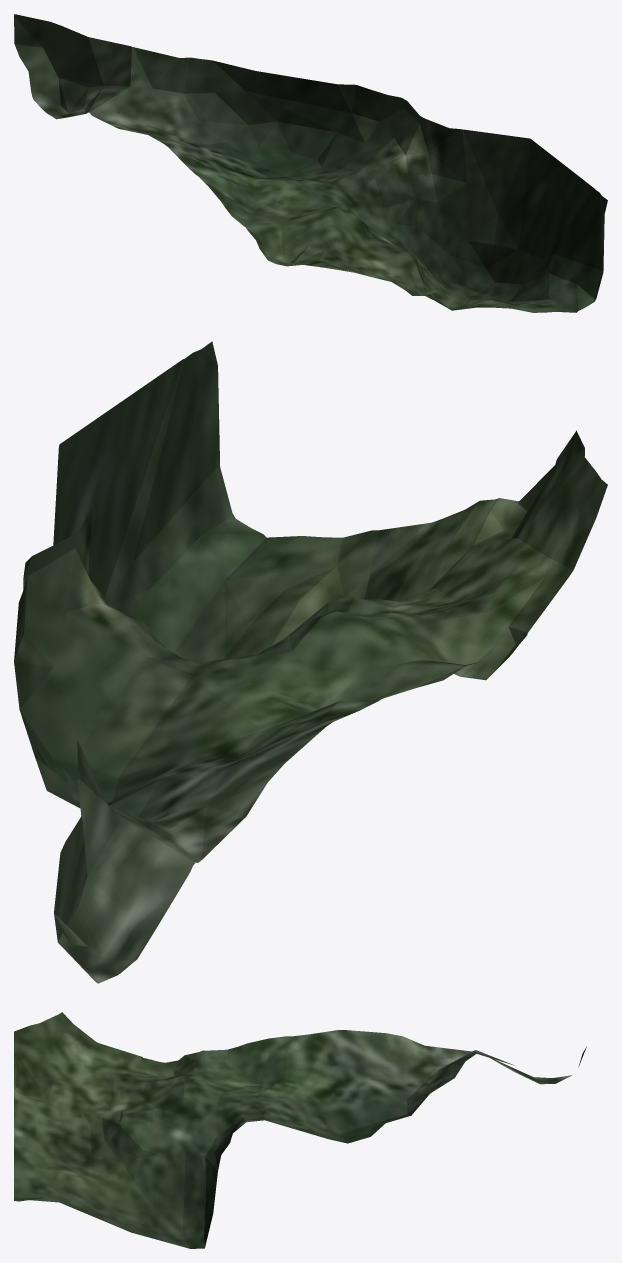
3 views of the same model, one above another, from view 1: azimuth 30°, elevation 25°; view 2: azimuth 150°, elevation 25°; view 3: azimuth 270°, elevation 25° (orthographic). The views are drawn at different scales.
Bounding box in the file's own units: 1.96 × 1.16 × 4.45.
1 material, 1 textured.
